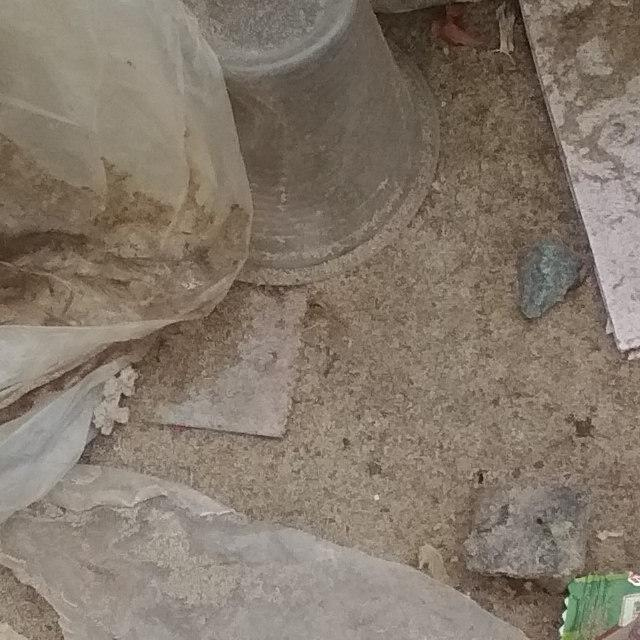paper: (484, 0, 640, 367)
plastic: (0, 0, 268, 640), (0, 419, 640, 640), (120, 0, 494, 322)
